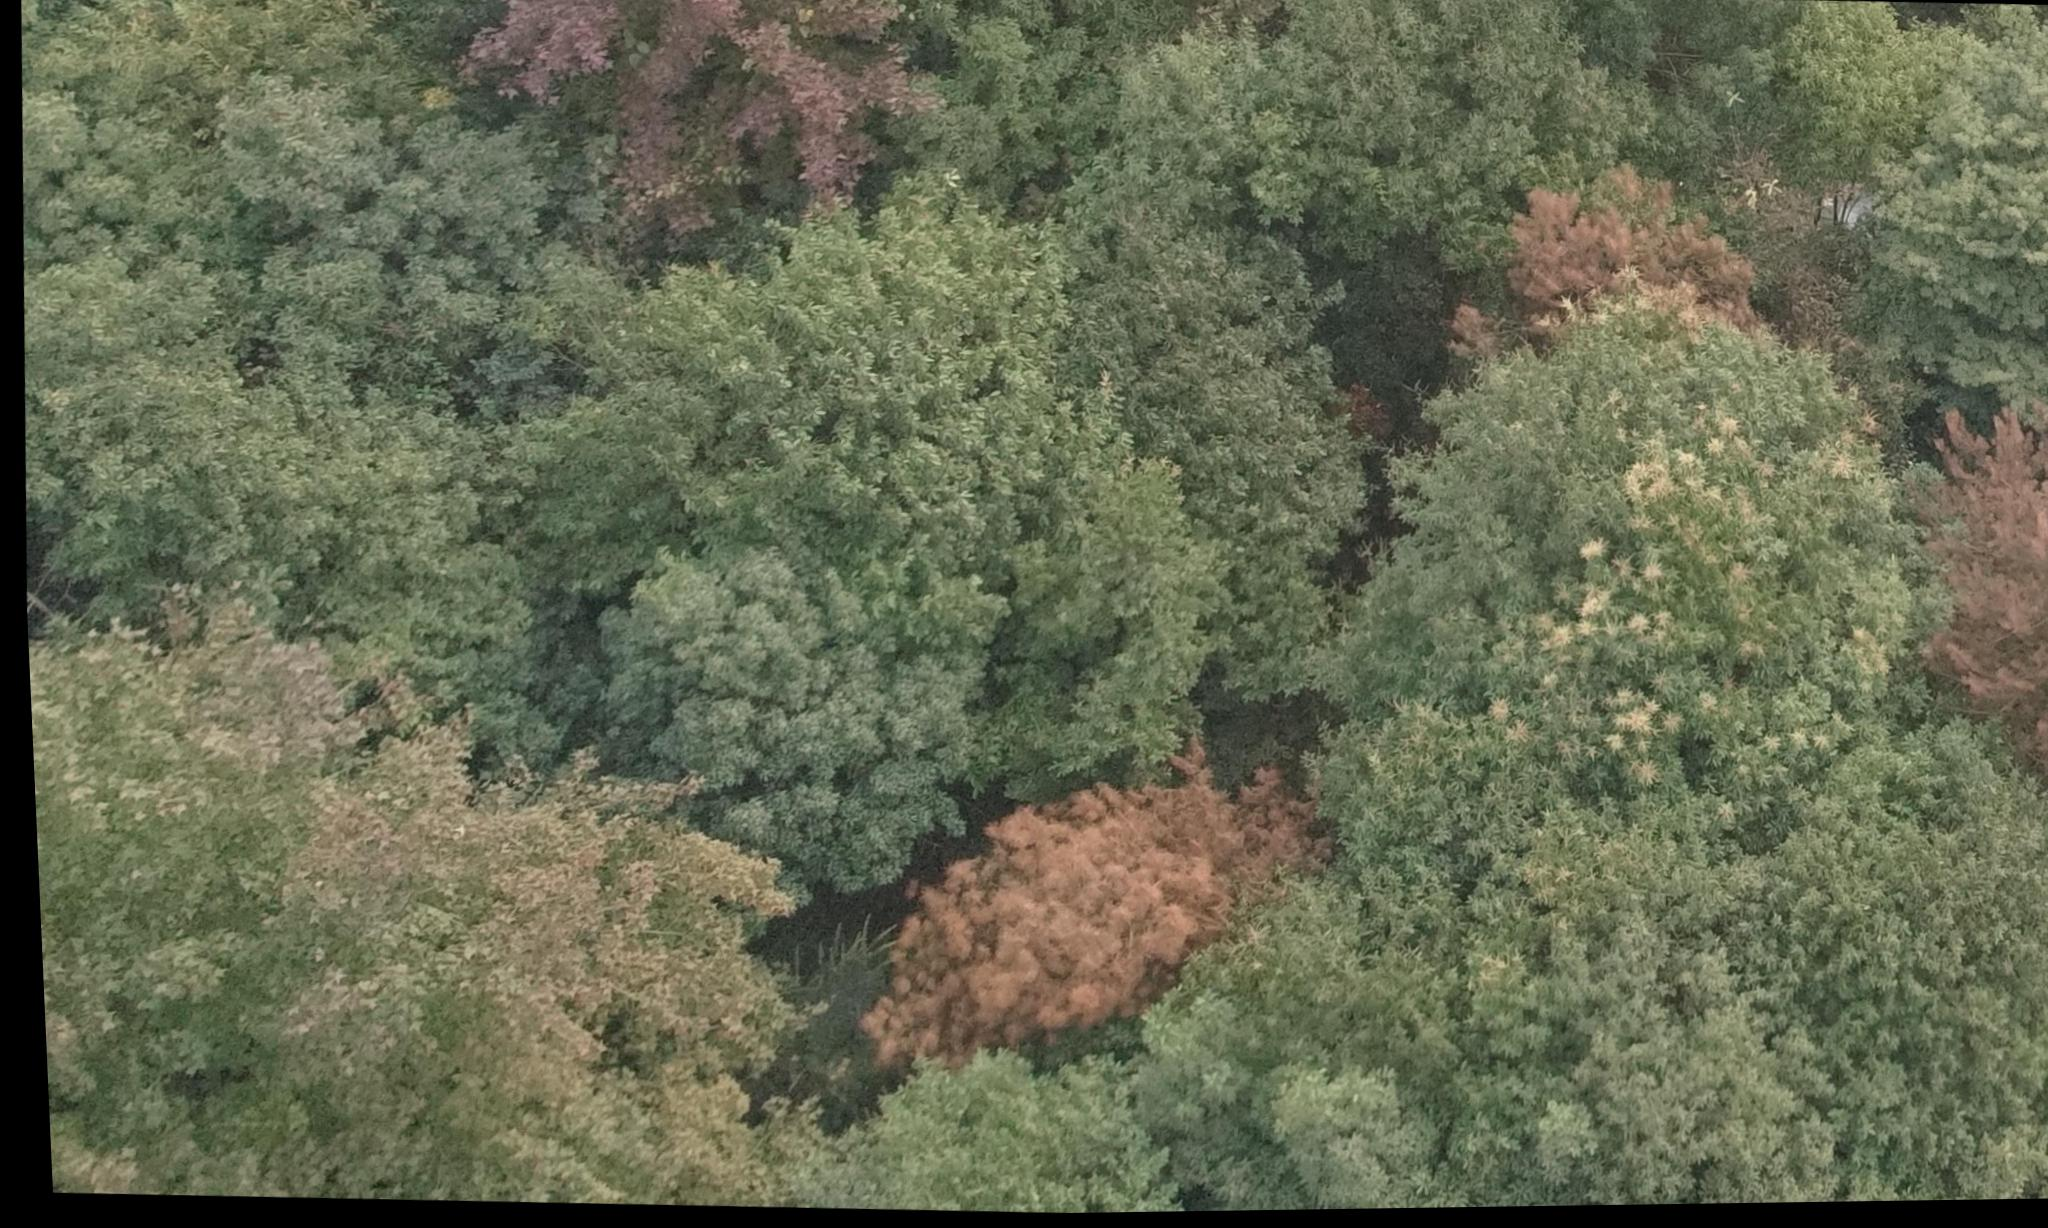heavy: (843, 693, 1339, 1102), (1443, 156, 1778, 390), (1902, 406, 2048, 803)
